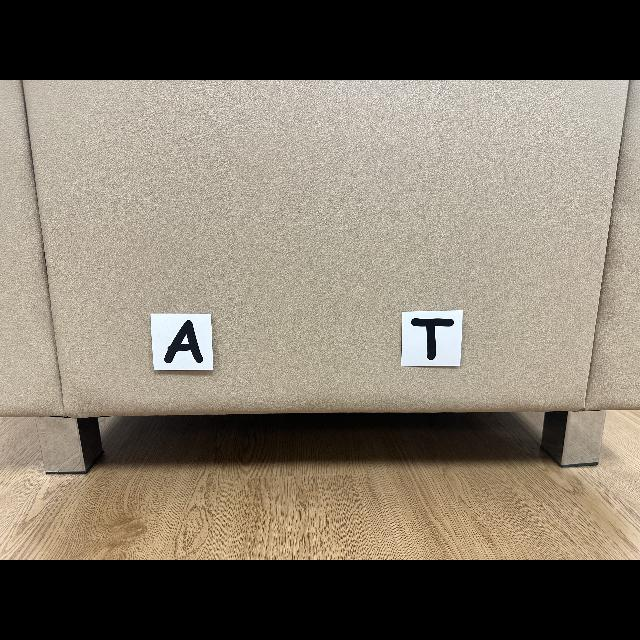A: (164, 320, 204, 364)
T: (411, 318, 454, 360)
